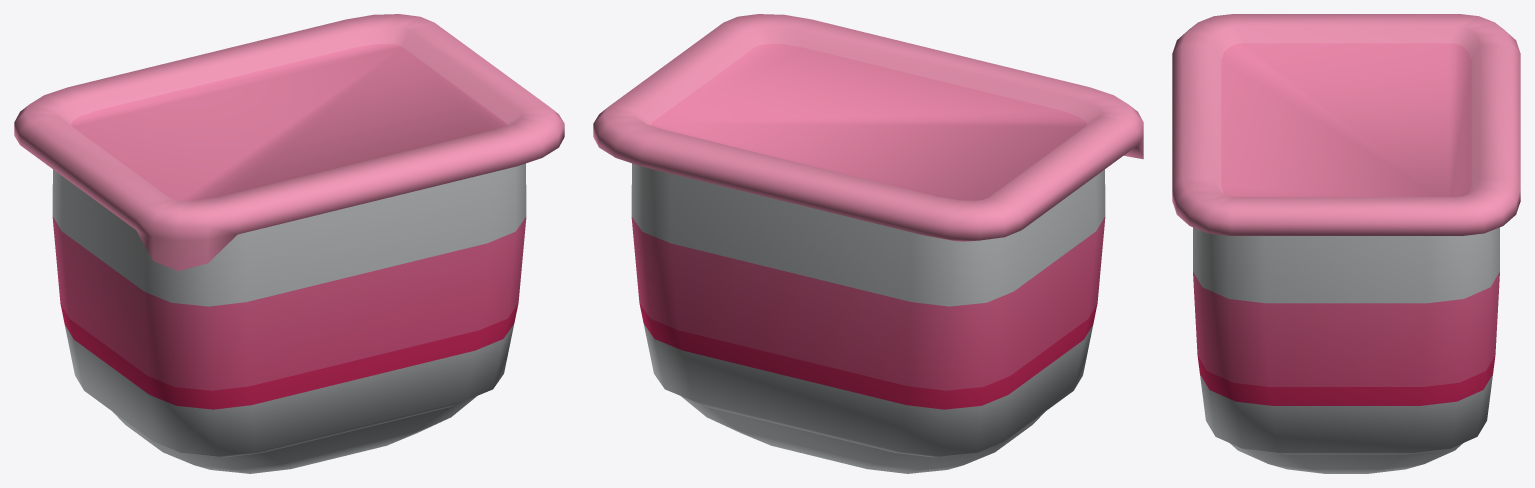
File: yogurt_005.fbx
The picture shows the model from 3 angles, left to right: view 1: azimuth 30°, elevation 25°; view 2: azimuth 150°, elevation 25°; view 3: azimuth 270°, elevation 25°; orthographic projection.
Visible parts, largest first — view 1: yogurt_005; view 2: yogurt_005; view 3: yogurt_005.
Part boxes in pixels (x1,y1,x2,y2): yogurt_005: (14, 14, 564, 473); yogurt_005: (593, 14, 1143, 473); yogurt_005: (1172, 14, 1520, 473).
Size of the model in its own units: 7.16 by 5.16 by 4.98.
